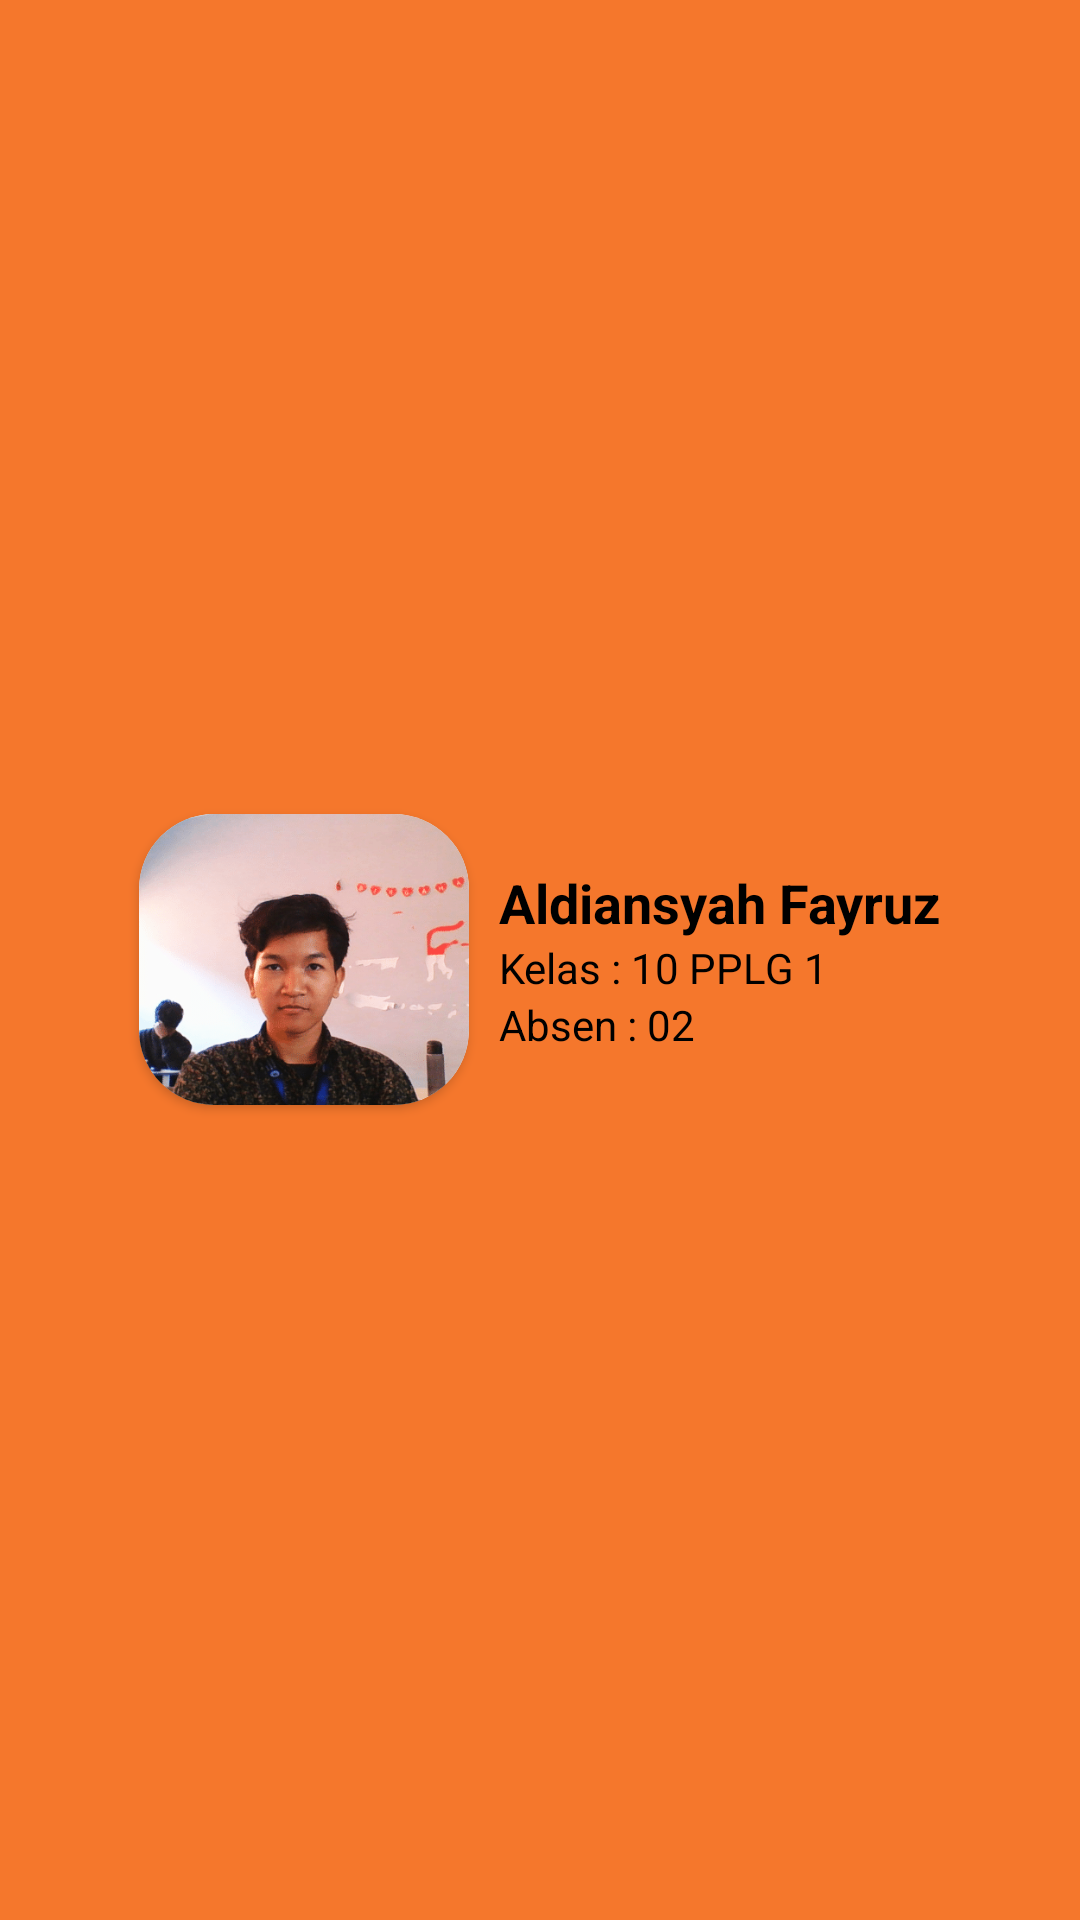

Screen size 1080w x 1920h. Icon name, then its center in pixels as point (x, y):
profil: point (304, 959)
